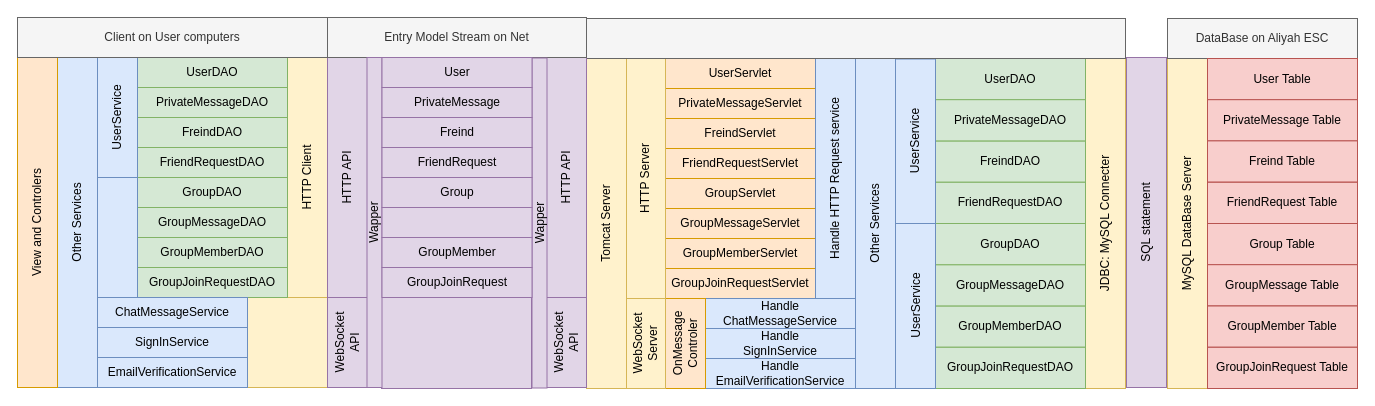
Image size: 1375x406. Some labels were removed from this diagram. Here are the shapes that lost their labels. From the top down, the centre of each, then its label:
[856,38]: Server on Aliyah ESC
[117,237]: GroupService
[456,222]: GroupMessage
[287,342]: WebSocket Client
[456,342]: Message
